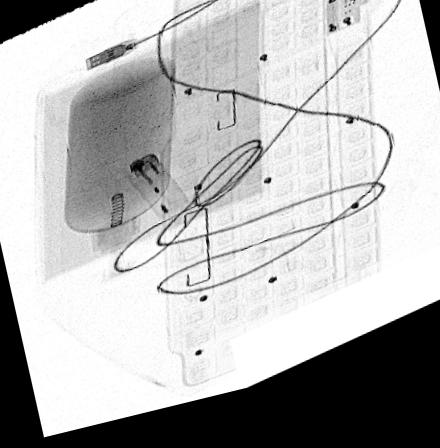Lighter: (122, 158, 189, 227)
